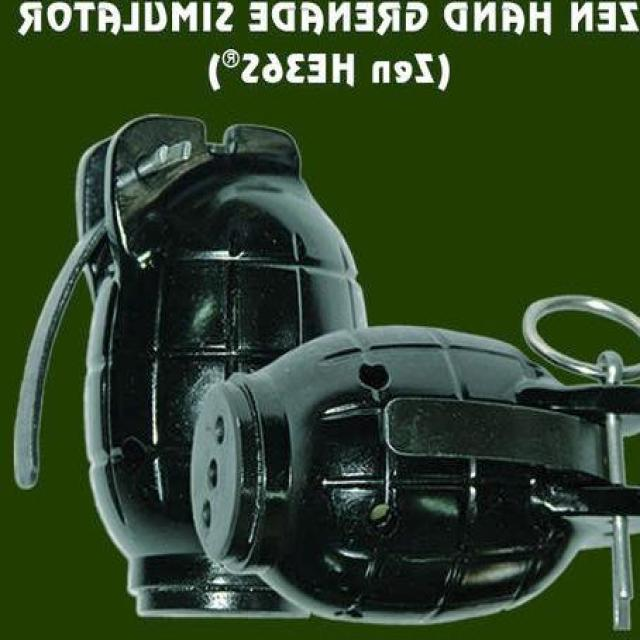grenade: (14, 115, 369, 620), (190, 297, 639, 637)
